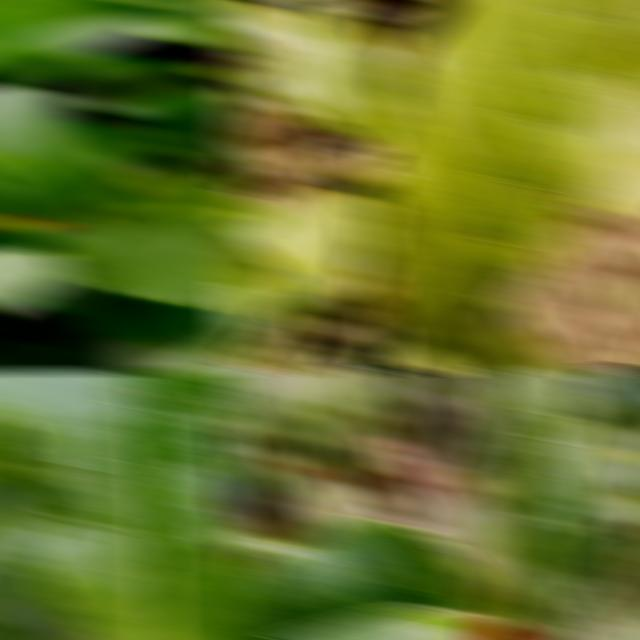Leaf: (367, 0, 640, 358), (0, 370, 240, 640), (220, 519, 498, 640), (40, 160, 240, 313), (504, 420, 628, 640), (220, 0, 402, 139), (479, 370, 592, 564), (241, 189, 389, 329), (363, 435, 501, 579), (0, 83, 142, 218), (0, 0, 201, 80), (0, 483, 98, 640), (220, 222, 296, 367), (146, 75, 240, 162), (575, 96, 640, 220), (396, 319, 516, 372), (226, 370, 322, 420), (579, 370, 640, 409)
